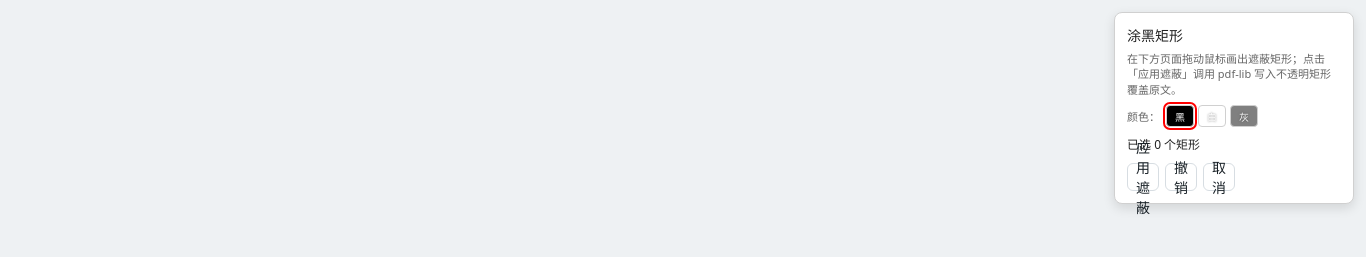
Test: RedactionOverlay UI 细化 (ISS-067 阶段 2 后续) › 撤销按钮 → 移除最后一个 region；空列表时按钮 disabled
expect the button with test id "redaction-undo-last" is disabled: met, box x1=1165 y1=163 x2=1197 y2=191
Press the mouse on the element with test id "redaction-overlay": (1234, 108) x1=1114 y1=12 x2=1354 y2=204
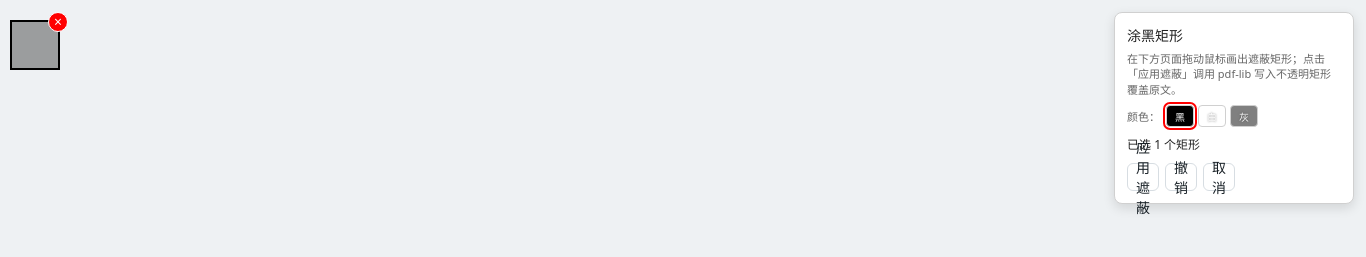
Press the mouse on the element with test id "redaction-overlay": (682, 108) x1=10 y1=12 x2=1354 y2=204
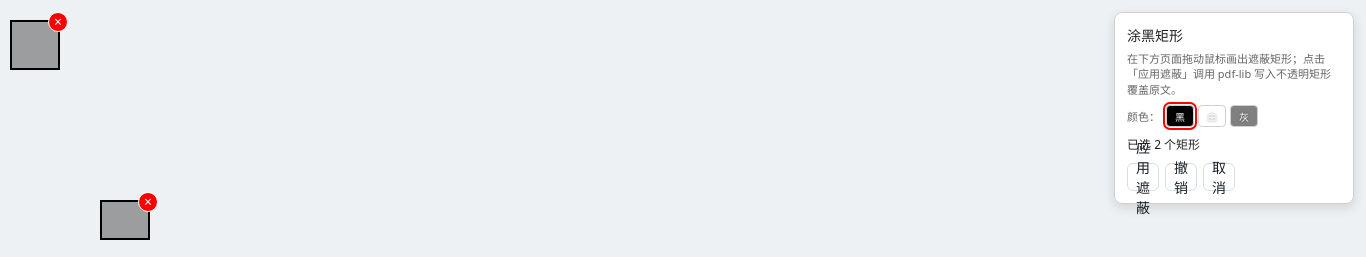
expect the number of elements with class "redaction-overlay__region" is 2: met, box x1=10 y1=20 x2=60 y2=70; x1=100 y1=200 x2=150 y2=240
Click the button with test id "redaction-undo-last": (1181, 177) x1=1165 y1=163 x2=1197 y2=191
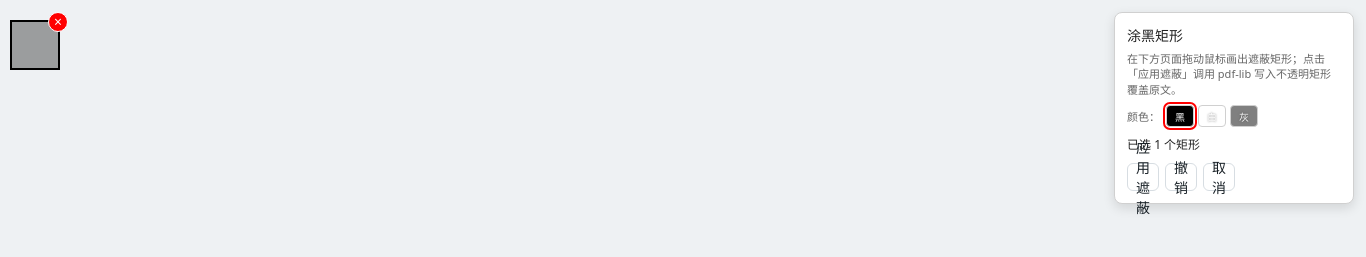
expect the number of elements with class "redaction-overlay__region" is 1: met, box x1=10 y1=20 x2=60 y2=70
Click the button with test id "redaction-undo-last": (1181, 177) x1=1165 y1=163 x2=1197 y2=191
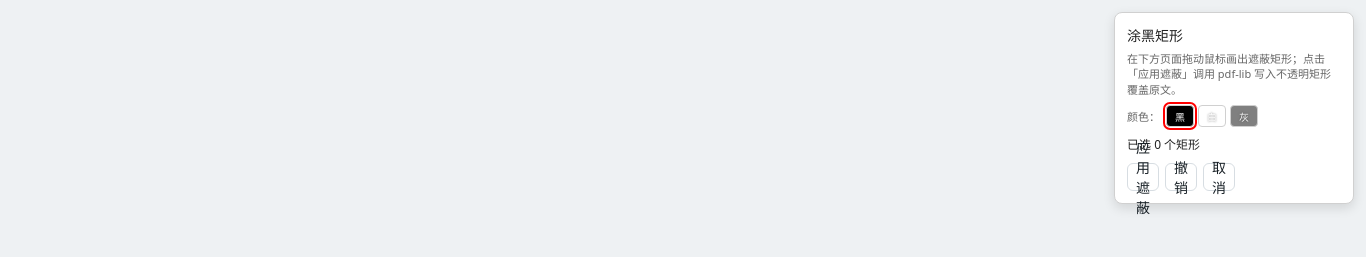
expect no elements with class "redaction-overlay__region" are shown: met
